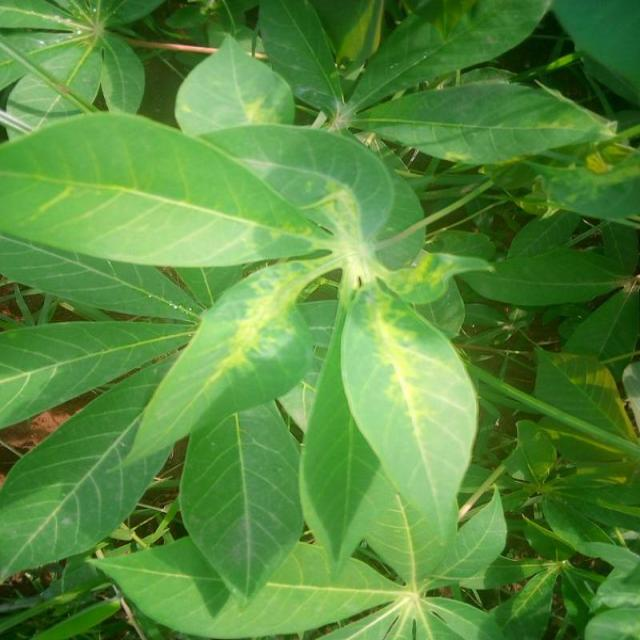cassava leaf: (1, 101, 486, 604)
